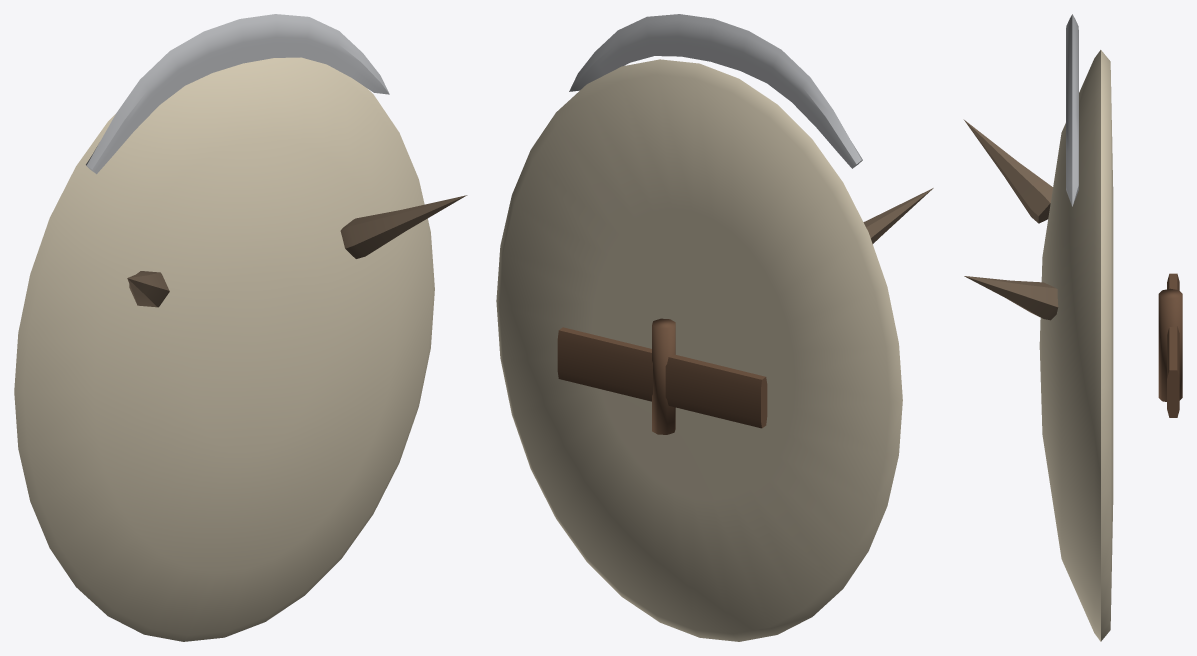
Rendered from klar.glb.
3 renders of one model, left to right at view 1: azimuth 30°, elevation 25°; view 2: azimuth 150°, elevation 25°; view 3: azimuth 270°, elevation 25°, orthographic. The views are drawn at different scales.
Parts seen in each view (by area): view 1: klar; view 2: klar; view 3: klar.
Part boxes in pixels (x1=…): klar: x1=14, y1=14, x2=467, y2=641; klar: x1=496, y1=14, x2=933, y2=641; klar: x1=963, y1=14, x2=1182, y2=641.
Size of the model in its own units: 0.84 by 1.2 by 0.402.
